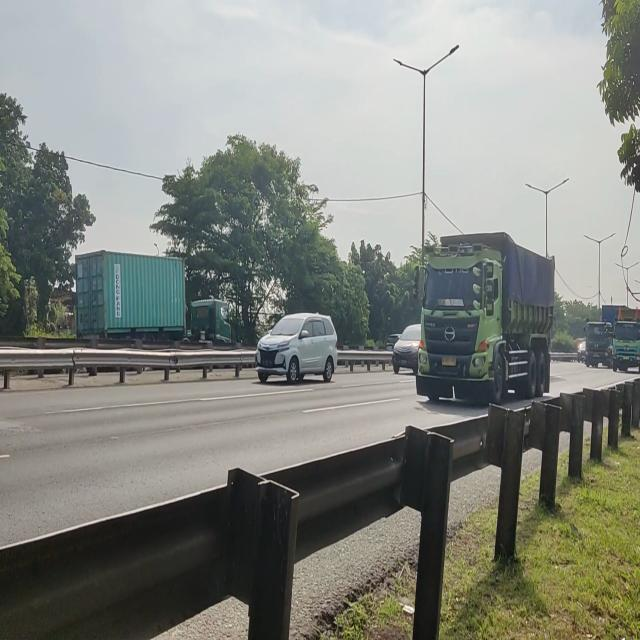Golongan I: (250, 301, 342, 389)
Golongan III: (415, 233, 554, 409)
